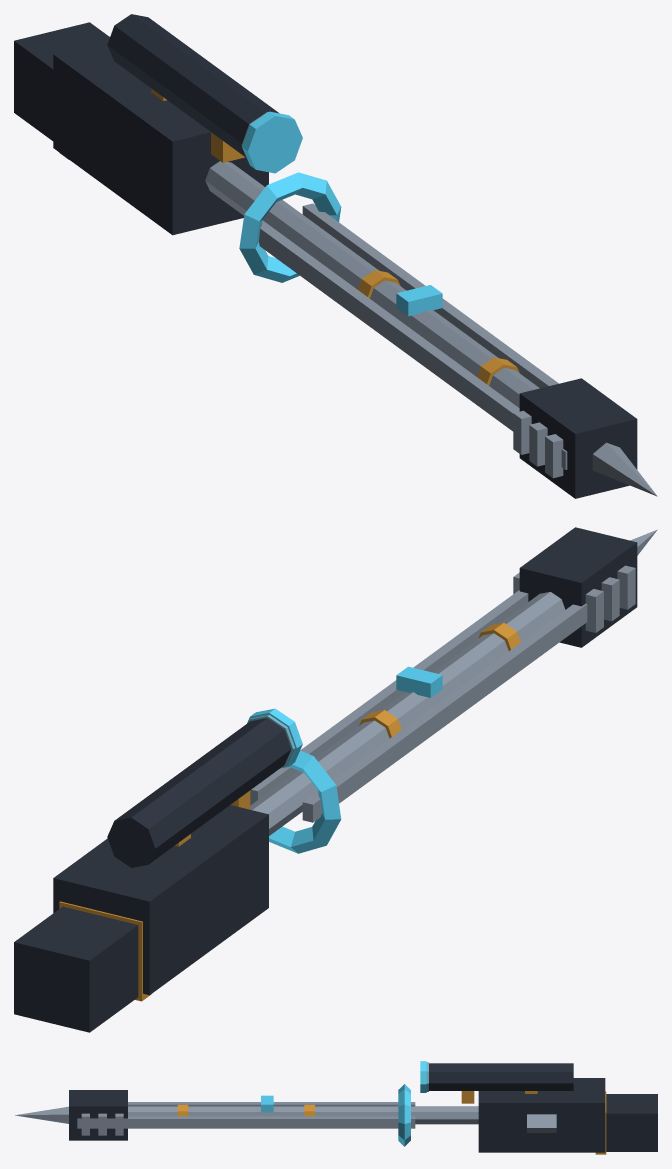
The model's file is SniperA2.obj.
3 views of the same model, one above another, from view 1: azimuth 30°, elevation 25°; view 2: azimuth 150°, elevation 25°; view 3: azimuth 270°, elevation 25° (orthographic). The views are drawn at different scales.
Visible parts, largest first — view 1: SniperA2; view 2: SniperA2; view 3: SniperA2.
Boxes of the visible parts, x1,y1,x2,y2 form: SniperA2: (14,14,657,498); SniperA2: (14,527,657,1032); SniperA2: (15,1061,657,1154).
Bounding box in the file's own units: 0.3728 × 0.43 × 3.05.
